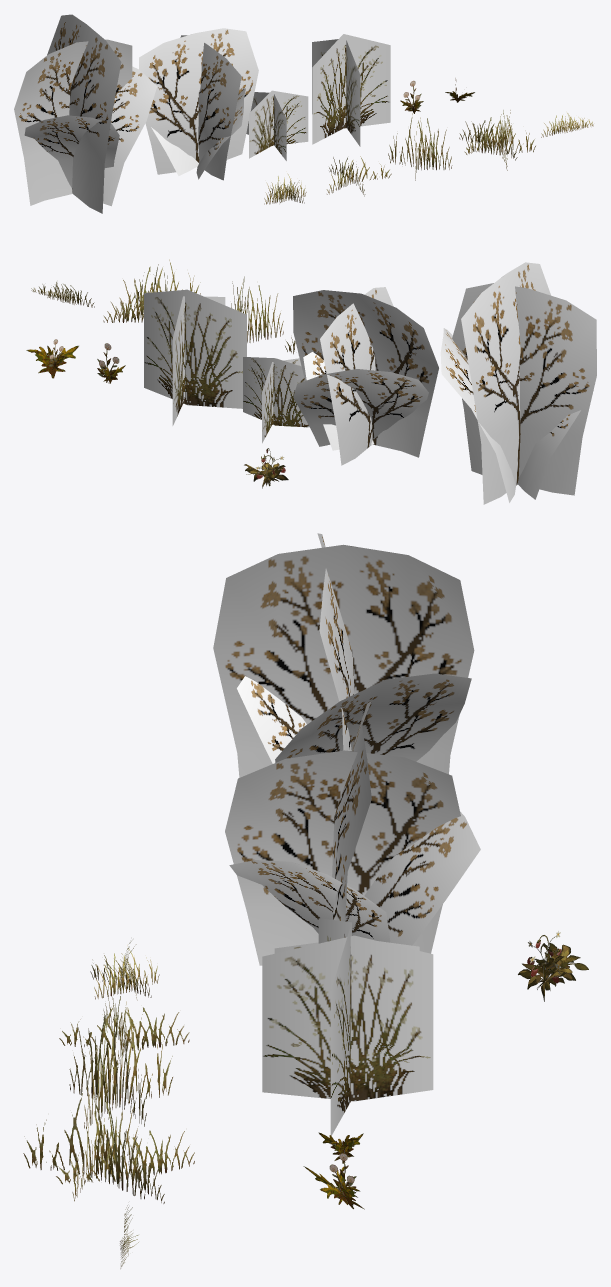
File: Misc_Foliage_Ver_0.1.fbx
The picture shows the model from 3 angles, top to bottom: view 1: azimuth 30°, elevation 25°; view 2: azimuth 150°, elevation 25°; view 3: azimuth 270°, elevation 25°; orthographic projection. The views are drawn at different scales.
Parts seen in each view (by area): view 1: Small Tree Bush B, Small Tree Bush A, LongGrass A, LongGrass B, Grass D, Grass C, Grass A, Grass B, Grass E, Dandelion A; view 2: Small Tree Bush B, Small Tree Bush A, LongGrass A, LongGrass B, Grass D, Grass C, Dandelion B, StrawberryBush, Grass E, Dandelion A; view 3: Small Tree Bush B, Small Tree Bush A, LongGrass A, Grass D, Grass C, StrawberryBush, Grass A, Grass B, Dandelion B.
Part boxes in pixels (bbox=[...]): Small Tree Bush B: bbox=[14, 14, 157, 213]; Small Tree Bush A: bbox=[139, 28, 258, 180]; LongGrass A: bbox=[312, 34, 390, 146]; LongGrass B: bbox=[246, 90, 308, 160]; Grass D: bbox=[459, 110, 535, 170]; Grass C: bbox=[388, 113, 452, 180]; Grass A: bbox=[326, 156, 391, 196]; Grass B: bbox=[264, 173, 306, 204]; Grass E: bbox=[541, 113, 593, 137]; Dandelion A: bbox=[400, 80, 423, 113]; Small Tree Bush B: bbox=[440, 262, 596, 504]; Small Tree Bush A: bbox=[293, 287, 438, 465]; LongGrass A: bbox=[144, 289, 246, 425]; LongGrass B: bbox=[243, 357, 309, 443]; Grass D: bbox=[103, 259, 200, 322]; Grass C: bbox=[231, 276, 283, 342]; Dandelion B: bbox=[26, 339, 78, 378]; StrawberryBush: bbox=[244, 448, 288, 488]; Grass E: bbox=[31, 282, 94, 307]; Dandelion A: bbox=[97, 343, 125, 383]; Small Tree Bush B: bbox=[213, 533, 474, 777]; Small Tree Bush A: bbox=[225, 701, 480, 965]; LongGrass A: bbox=[262, 918, 433, 1135]; Grass D: bbox=[23, 1093, 194, 1203]; Grass C: bbox=[69, 1001, 172, 1128]; StrawberryBush: bbox=[518, 931, 588, 1001]; Grass A: bbox=[59, 990, 189, 1079]; Grass B: bbox=[90, 941, 159, 1000]; Dandelion B: bbox=[303, 1153, 364, 1209].
Bounding box in the file's own units: 1014 × 325 × 521.
